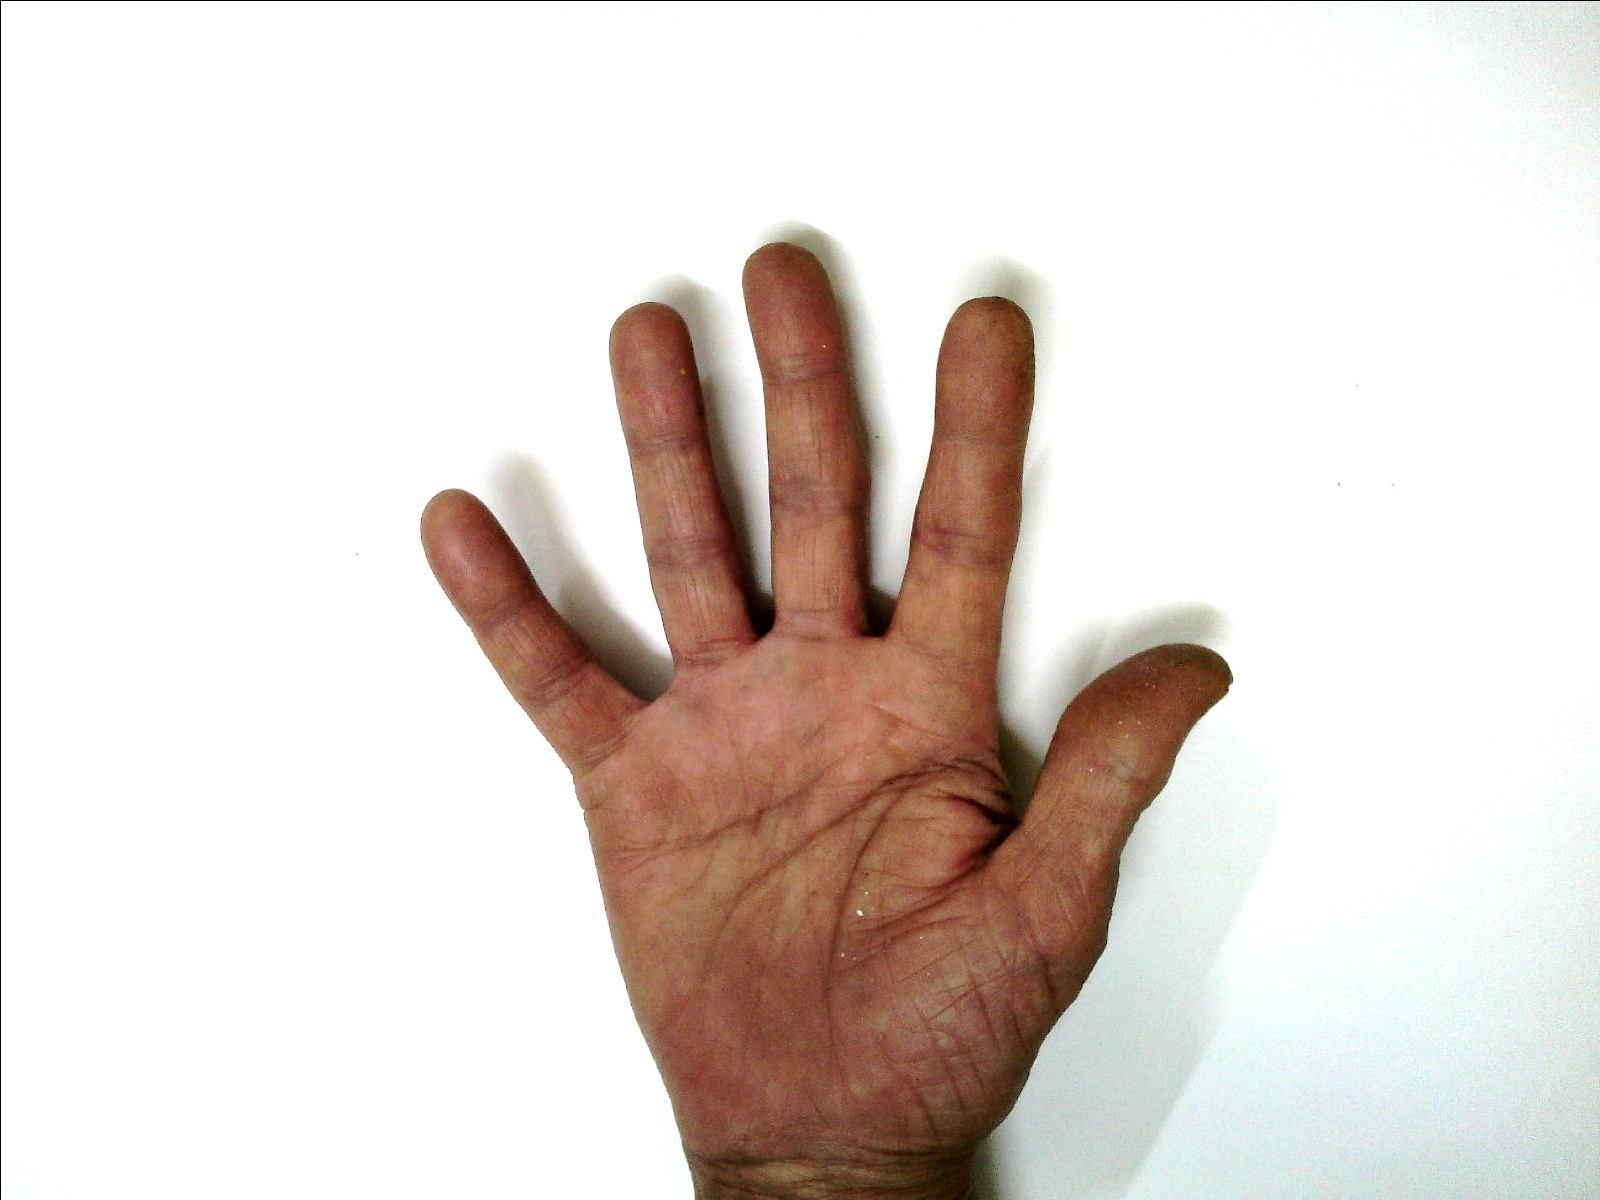5-hand: (420, 250, 1231, 1163)
